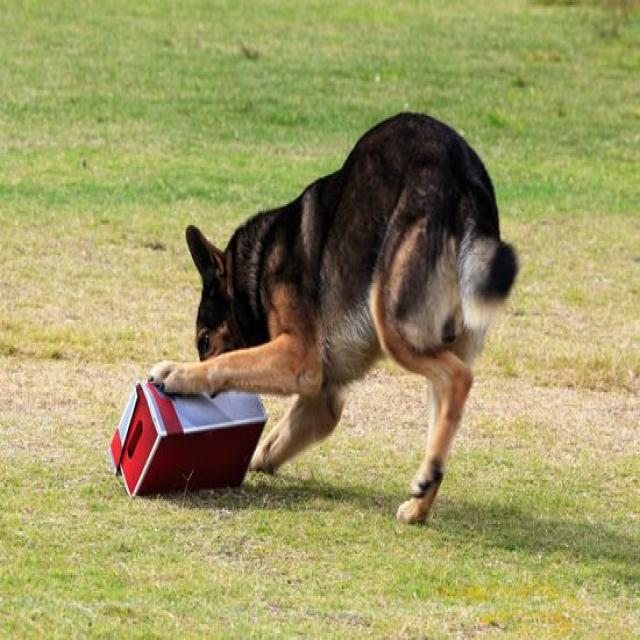GERMAN_SHEPHERD: (133, 86, 527, 570)
